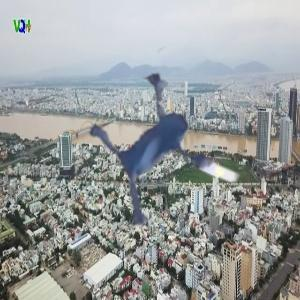drone: (62, 53, 278, 269)
